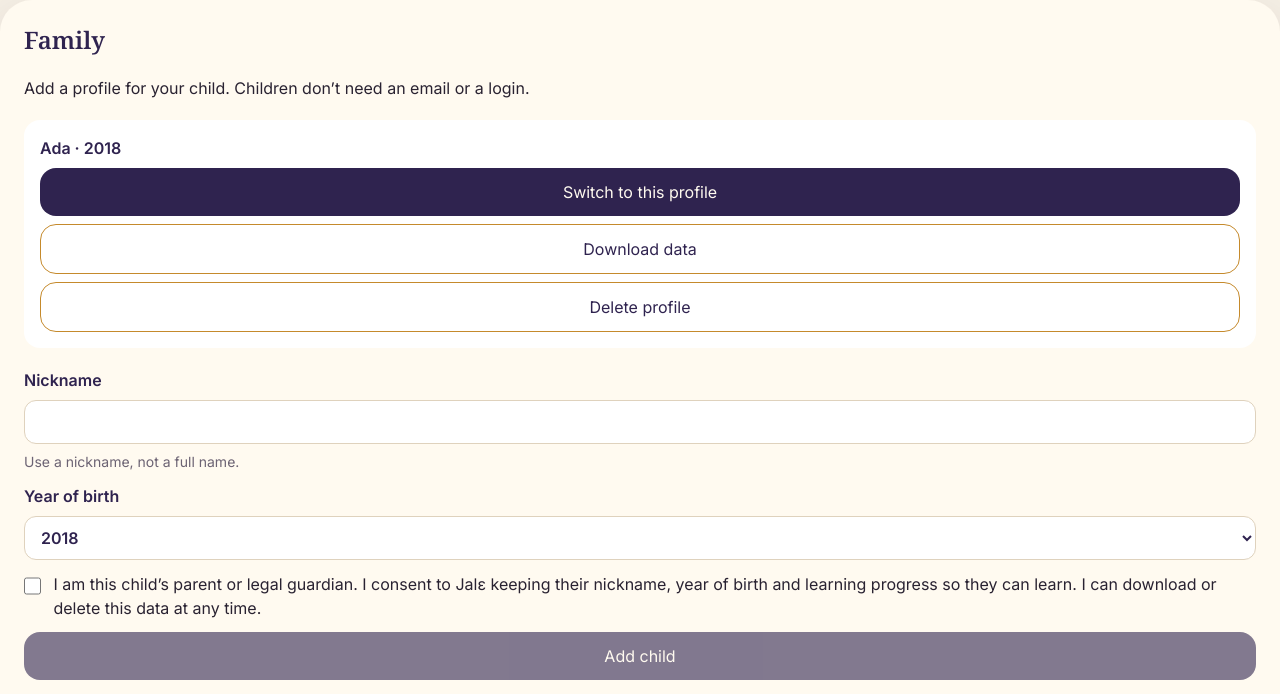
Test case: family section › lists children and needs the consent box before adding one
This screenshot has width=1280, height=694.
Expected: the text "Ada · 2018" is shown, [40,138,121,158]
Type "Ben" into the field labelled "Nickname Use a nickname, not a full name." at (640, 422), box [24,400,1256,444]
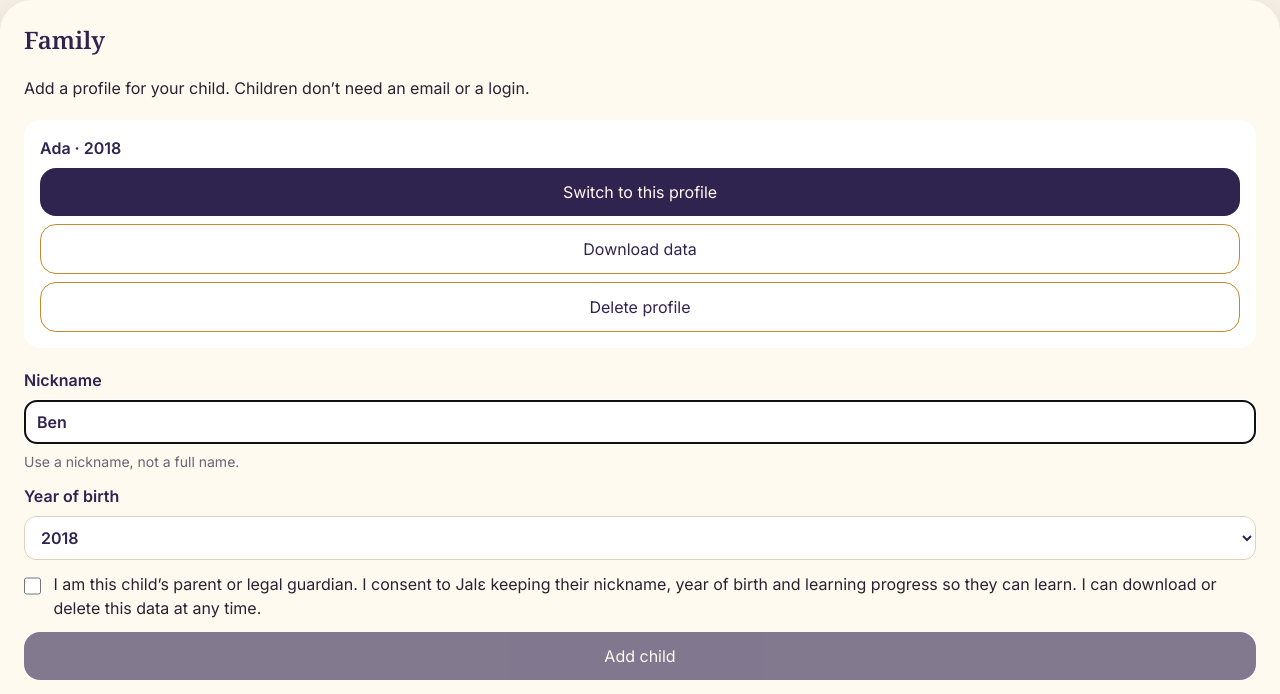
Expected: the button "Add child" is disabled, [24,632,1256,680]
Click the checkbox at (33, 586), box [24,576,42,596]
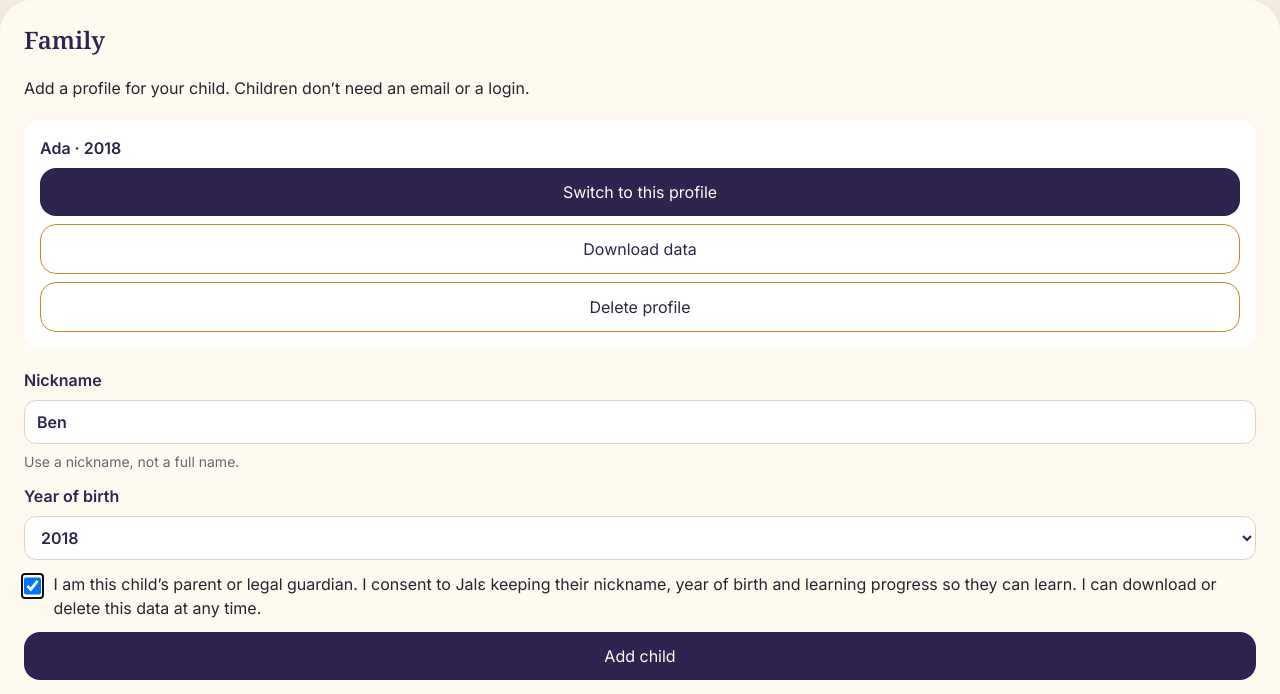
Expected: the button "Add child" is enabled
Click the button "Add child" at (640, 656), box [24,632,1256,680]
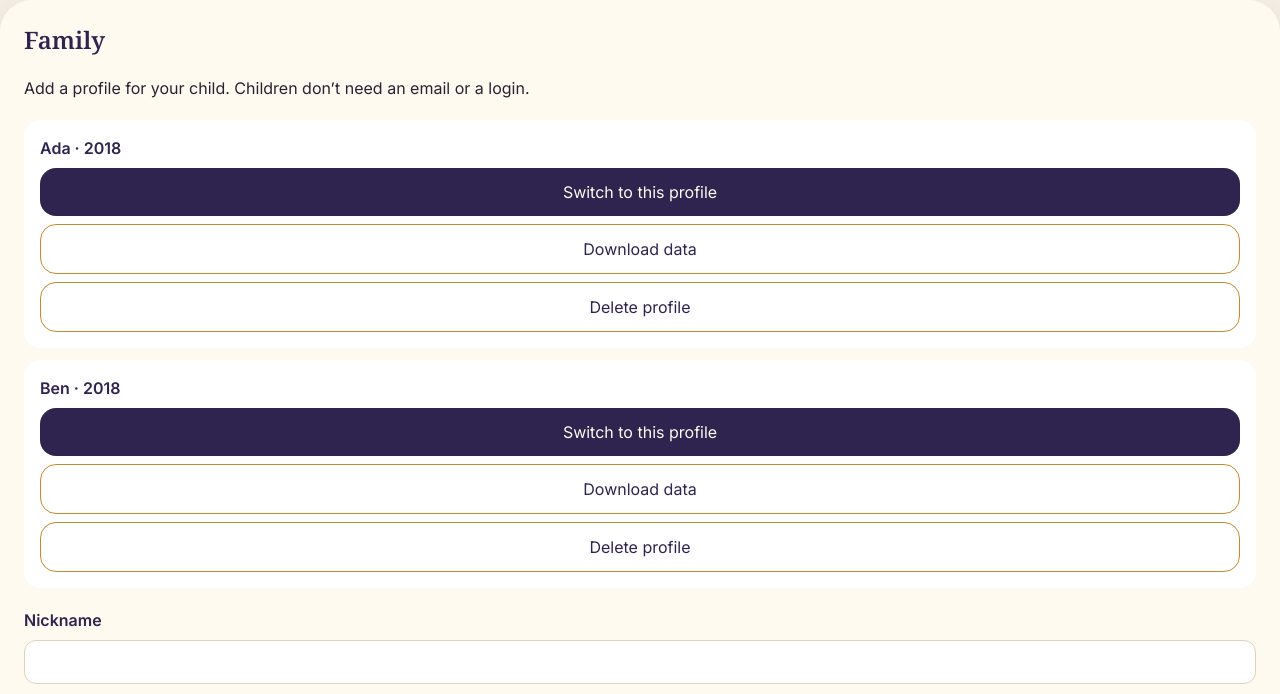
Expected: the text "Ben · 2018" is shown, [40,378,120,398]
